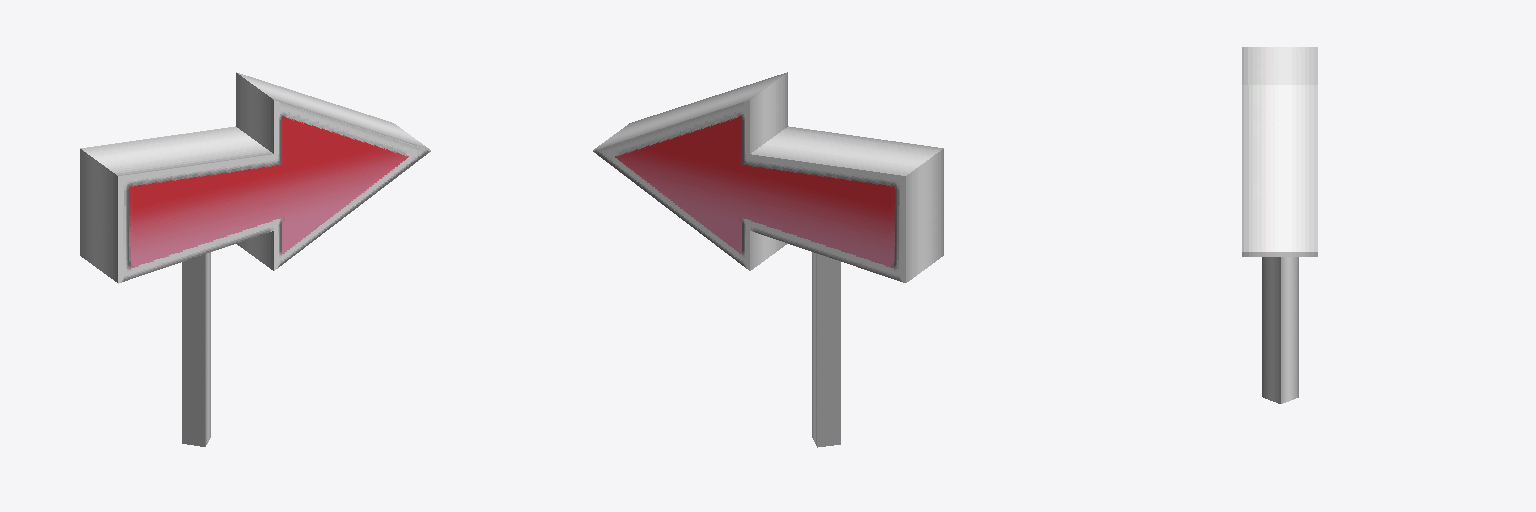
3 views of the same model, side by side, from view 1: azimuth 30°, elevation 25°; view 2: azimuth 150°, elevation 25°; view 3: azimuth 270°, elevation 25° (orthographic).
Parts seen in each view (by area): view 1: polygon37; view 2: polygon37; view 3: polygon37.
Boxes of the visible parts, <box> form: polygon37: <box>80,72,430,446</box>; polygon37: <box>593,72,943,447</box>; polygon37: <box>1242,47,1317,403</box>.
Bounding box in the file's own units: 0.7102 × 0.7365 × 0.1495.
Materials: 1 (1 with a texture image).